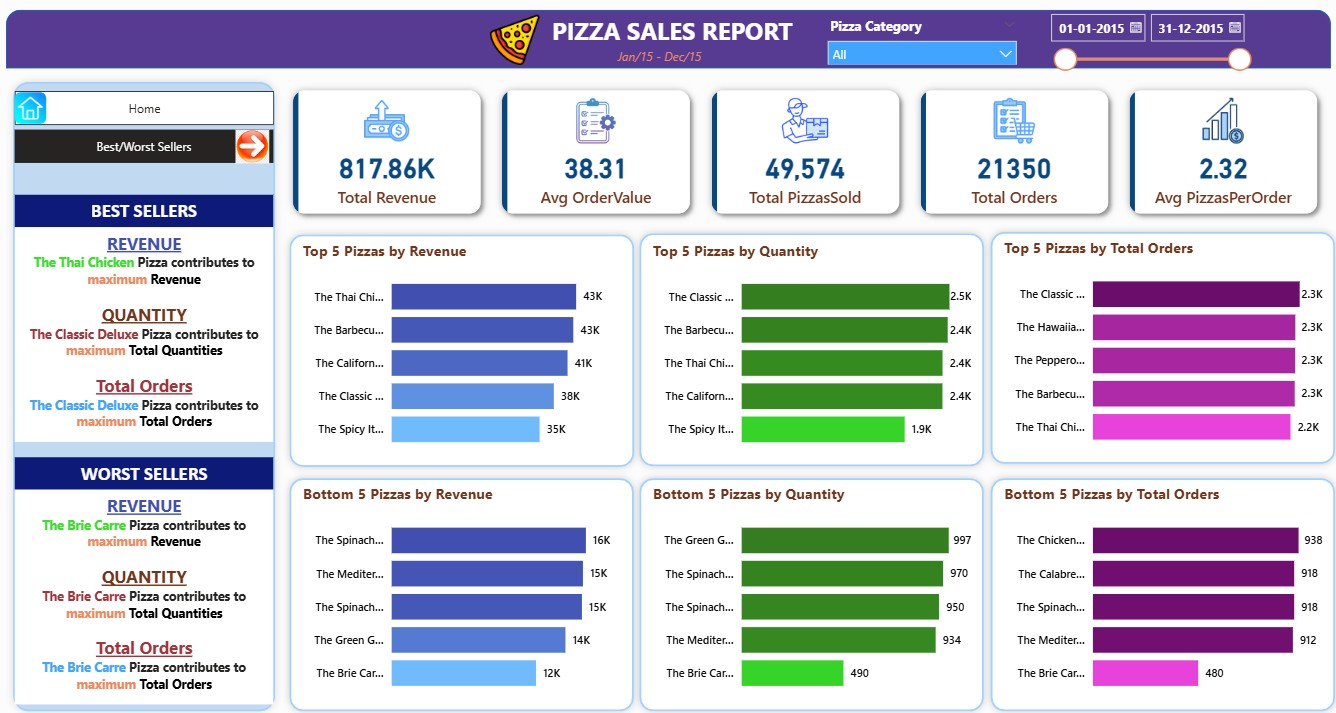

The dashboard page shown, as its layout file describes it:
{"tool":"powerbi","page":{"name":"Best/Worst Sellers","canvas":[1500,820],"ordinal":1},"visuals":[{"type":"shape","box":[11.1,87.7,307.8,717.2],"z":0},{"type":"cardVisual","fields":{"Data":["pizza_sales.Total Revenue","pizza_sales.Avg OrderValue","pizza_sales.Total PizzasSold","pizza_sales.Total Orders","pizza_sales.Avg PizzasPerOrder"]},"box":[318.9,93.3,1168.5,161.5],"z":1000},{"type":"shape","box":[11.1,15.3,1476.2,65.5],"z":2000},{"type":"textbox","box":[590.5,15.3,325.9,65.5],"z":3000},{"type":"textbox","box":[685.2,52.9,108.6,27.9],"z":4000},{"type":"shape","box":[318.9,257.6,400,275],"z":5000},{"type":"image","box":[548.7,20.9,58.5,55.7],"z":6000},{"type":"textbox","box":[20.9,221.4,288.3,36.2],"z":15000},{"type":"textbox","box":[20.9,257.6,288.3,239.5],"z":17000},{"type":"textbox","box":[20.9,513.9,288.3,36.2],"z":18000},{"type":"slicer","fields":{"Values":["pizza_sales.pizza_category"]},"box":[916.4,18.1,231.2,58.5],"z":20000},{"type":"slicer","fields":{"Values":["pizza_sales.order_date"]},"box":[1162.9,9.7,243.7,75.2],"z":21000},{"type":"shape","box":[708.9,256.3,400,275.7],"z":21001},{"type":"shape","box":[1100.2,254.9,399.7,274.4],"z":21002},{"type":"shape","box":[318.9,529.2,399.7,275.7],"z":21003},{"type":"shape","box":[708.9,529.2,399.7,275.7],"z":21004},{"type":"shape","box":[1100.2,529.2,399.7,275.7],"z":21005},{"type":"barChart","title":"Top 5 Pizzas by Revenue","fields":{"Category":["pizza_sales.pizza_name"],"Y":["pizza_sales.Total Revenue"]},"box":[337,271.6,364.9,246.5],"z":21006},{"type":"barChart","title":"Bottom 5 Pizzas by Revenue","fields":{"Category":["pizza_sales.pizza_name"],"Y":["pizza_sales.Total Revenue"]},"box":[337,543.1,364.9,246.5],"z":21007},{"type":"barChart","title":"Top 5 Pizzas by Quantity","fields":{"Category":["pizza_sales.pizza_name"],"Y":["pizza_sales.Total PizzasSold"]},"box":[727,271.6,364.9,246.5],"z":21008},{"type":"barChart","title":"Bottom 5 Pizzas by Quantity","fields":{"Category":["pizza_sales.pizza_name"],"Y":["pizza_sales.Total PizzasSold"]},"box":[727,543.1,364.9,246.5],"z":21009},{"type":"barChart","title":"Top 5 Pizzas by Total Orders","fields":{"Category":["pizza_sales.pizza_name"],"Y":["pizza_sales.Total Orders"]},"box":[1118.3,268.8,364.9,246.5],"z":21010},{"type":"barChart","title":"Bottom 5 Pizzas by Total Orders","fields":{"Category":["pizza_sales.pizza_name"],"Y":["pizza_sales.Total Orders"]},"box":[1118.3,543.1,364.9,246.5],"z":21011},{"type":"textbox","box":[20.9,550.1,288.3,239.5],"z":21012},{"type":"pageNavigator","box":[20.9,105.8,289.7,39],"z":21013},{"type":"image","box":[11.1,107.2,54.3,34.8],"z":21014},{"type":"pageNavigator","box":[20.9,149,288.3,37.6],"z":21015},{"type":"image","box":[260.4,149,50.1,37.6],"z":21016}]}

Visuals, with their boxes in screenshot pixels (x1, y1, x2, y2), scaled from the page's 1500x820 canvas onto the 1336x713 screenshot:
shape: [left=10, top=76, right=284, bottom=700]
cardVisual - pizza_sales.Total Revenue x pizza_sales.Avg OrderValue: [left=284, top=81, right=1325, bottom=222]
shape: [left=10, top=13, right=1325, bottom=70]
textbox: [left=526, top=13, right=816, bottom=70]
textbox: [left=610, top=46, right=707, bottom=70]
shape: [left=284, top=224, right=640, bottom=463]
image: [left=489, top=18, right=541, bottom=67]
textbox: [left=19, top=193, right=275, bottom=224]
textbox: [left=19, top=224, right=275, bottom=432]
textbox: [left=19, top=447, right=275, bottom=478]
slicer - pizza_sales.pizza_category: [left=816, top=16, right=1022, bottom=67]
slicer - pizza_sales.order_date: [left=1036, top=8, right=1253, bottom=74]
shape: [left=631, top=223, right=988, bottom=463]
shape: [left=980, top=222, right=1335, bottom=460]
shape: [left=284, top=460, right=640, bottom=700]
shape: [left=631, top=460, right=987, bottom=700]
shape: [left=980, top=460, right=1335, bottom=700]
"Top 5 Pizzas by Revenue" barChart: [left=300, top=236, right=625, bottom=450]
"Bottom 5 Pizzas by Revenue" barChart: [left=300, top=472, right=625, bottom=687]
"Top 5 Pizzas by Quantity" barChart: [left=648, top=236, right=973, bottom=450]
"Bottom 5 Pizzas by Quantity" barChart: [left=648, top=472, right=973, bottom=687]
"Top 5 Pizzas by Total Orders" barChart: [left=996, top=234, right=1321, bottom=448]
"Bottom 5 Pizzas by Total Orders" barChart: [left=996, top=472, right=1321, bottom=687]
textbox: [left=19, top=478, right=275, bottom=687]
pageNavigator: [left=19, top=92, right=277, bottom=126]
image: [left=10, top=93, right=58, bottom=123]
pageNavigator: [left=19, top=130, right=275, bottom=162]
image: [left=232, top=130, right=277, bottom=162]
